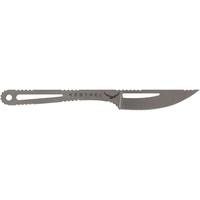knife: (1, 82, 200, 115)
